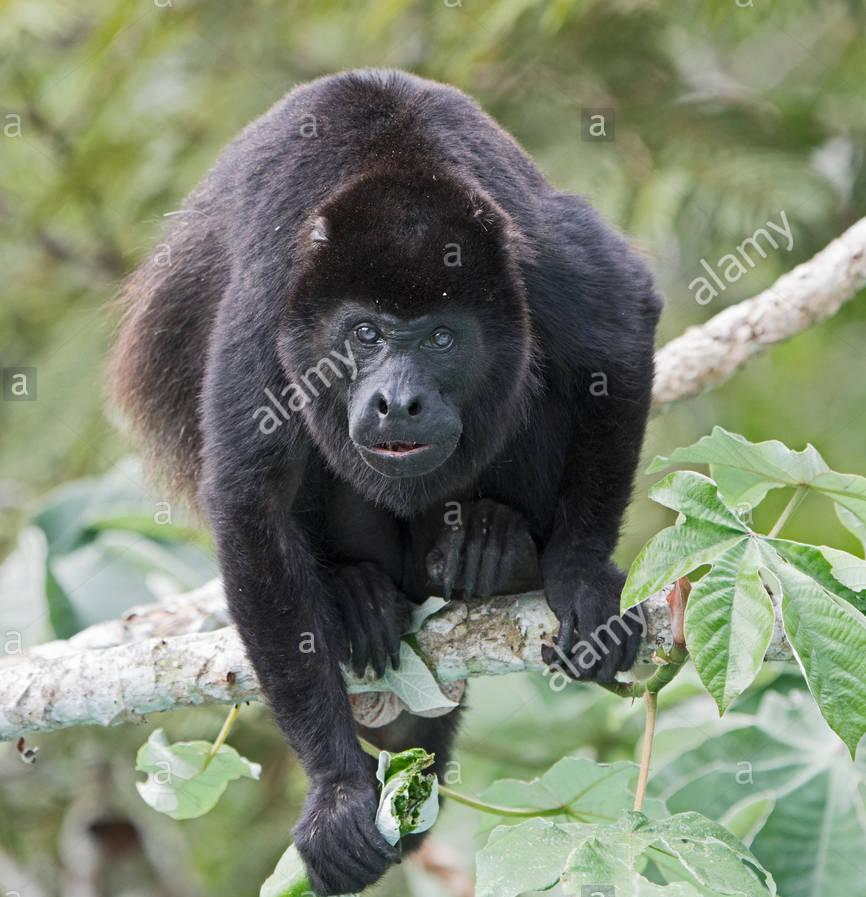monkey: (116, 68, 666, 897)
